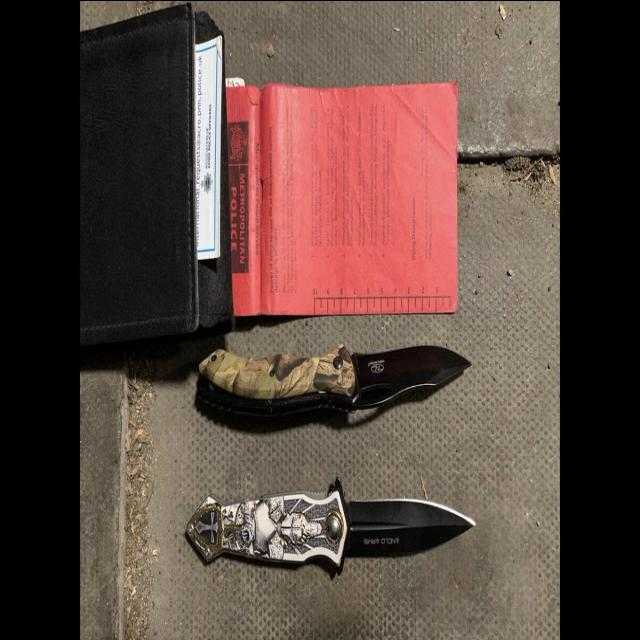Sharp-Object: (193, 346, 474, 436), (185, 482, 474, 566)
